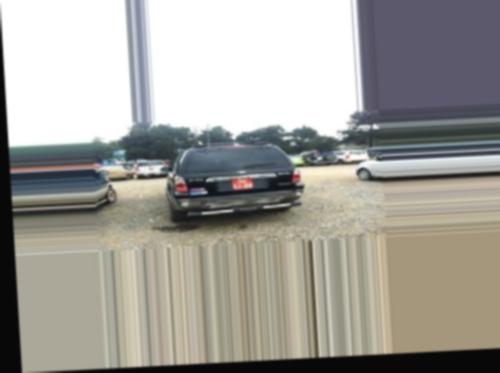License_Plate: (230, 177, 253, 191)
